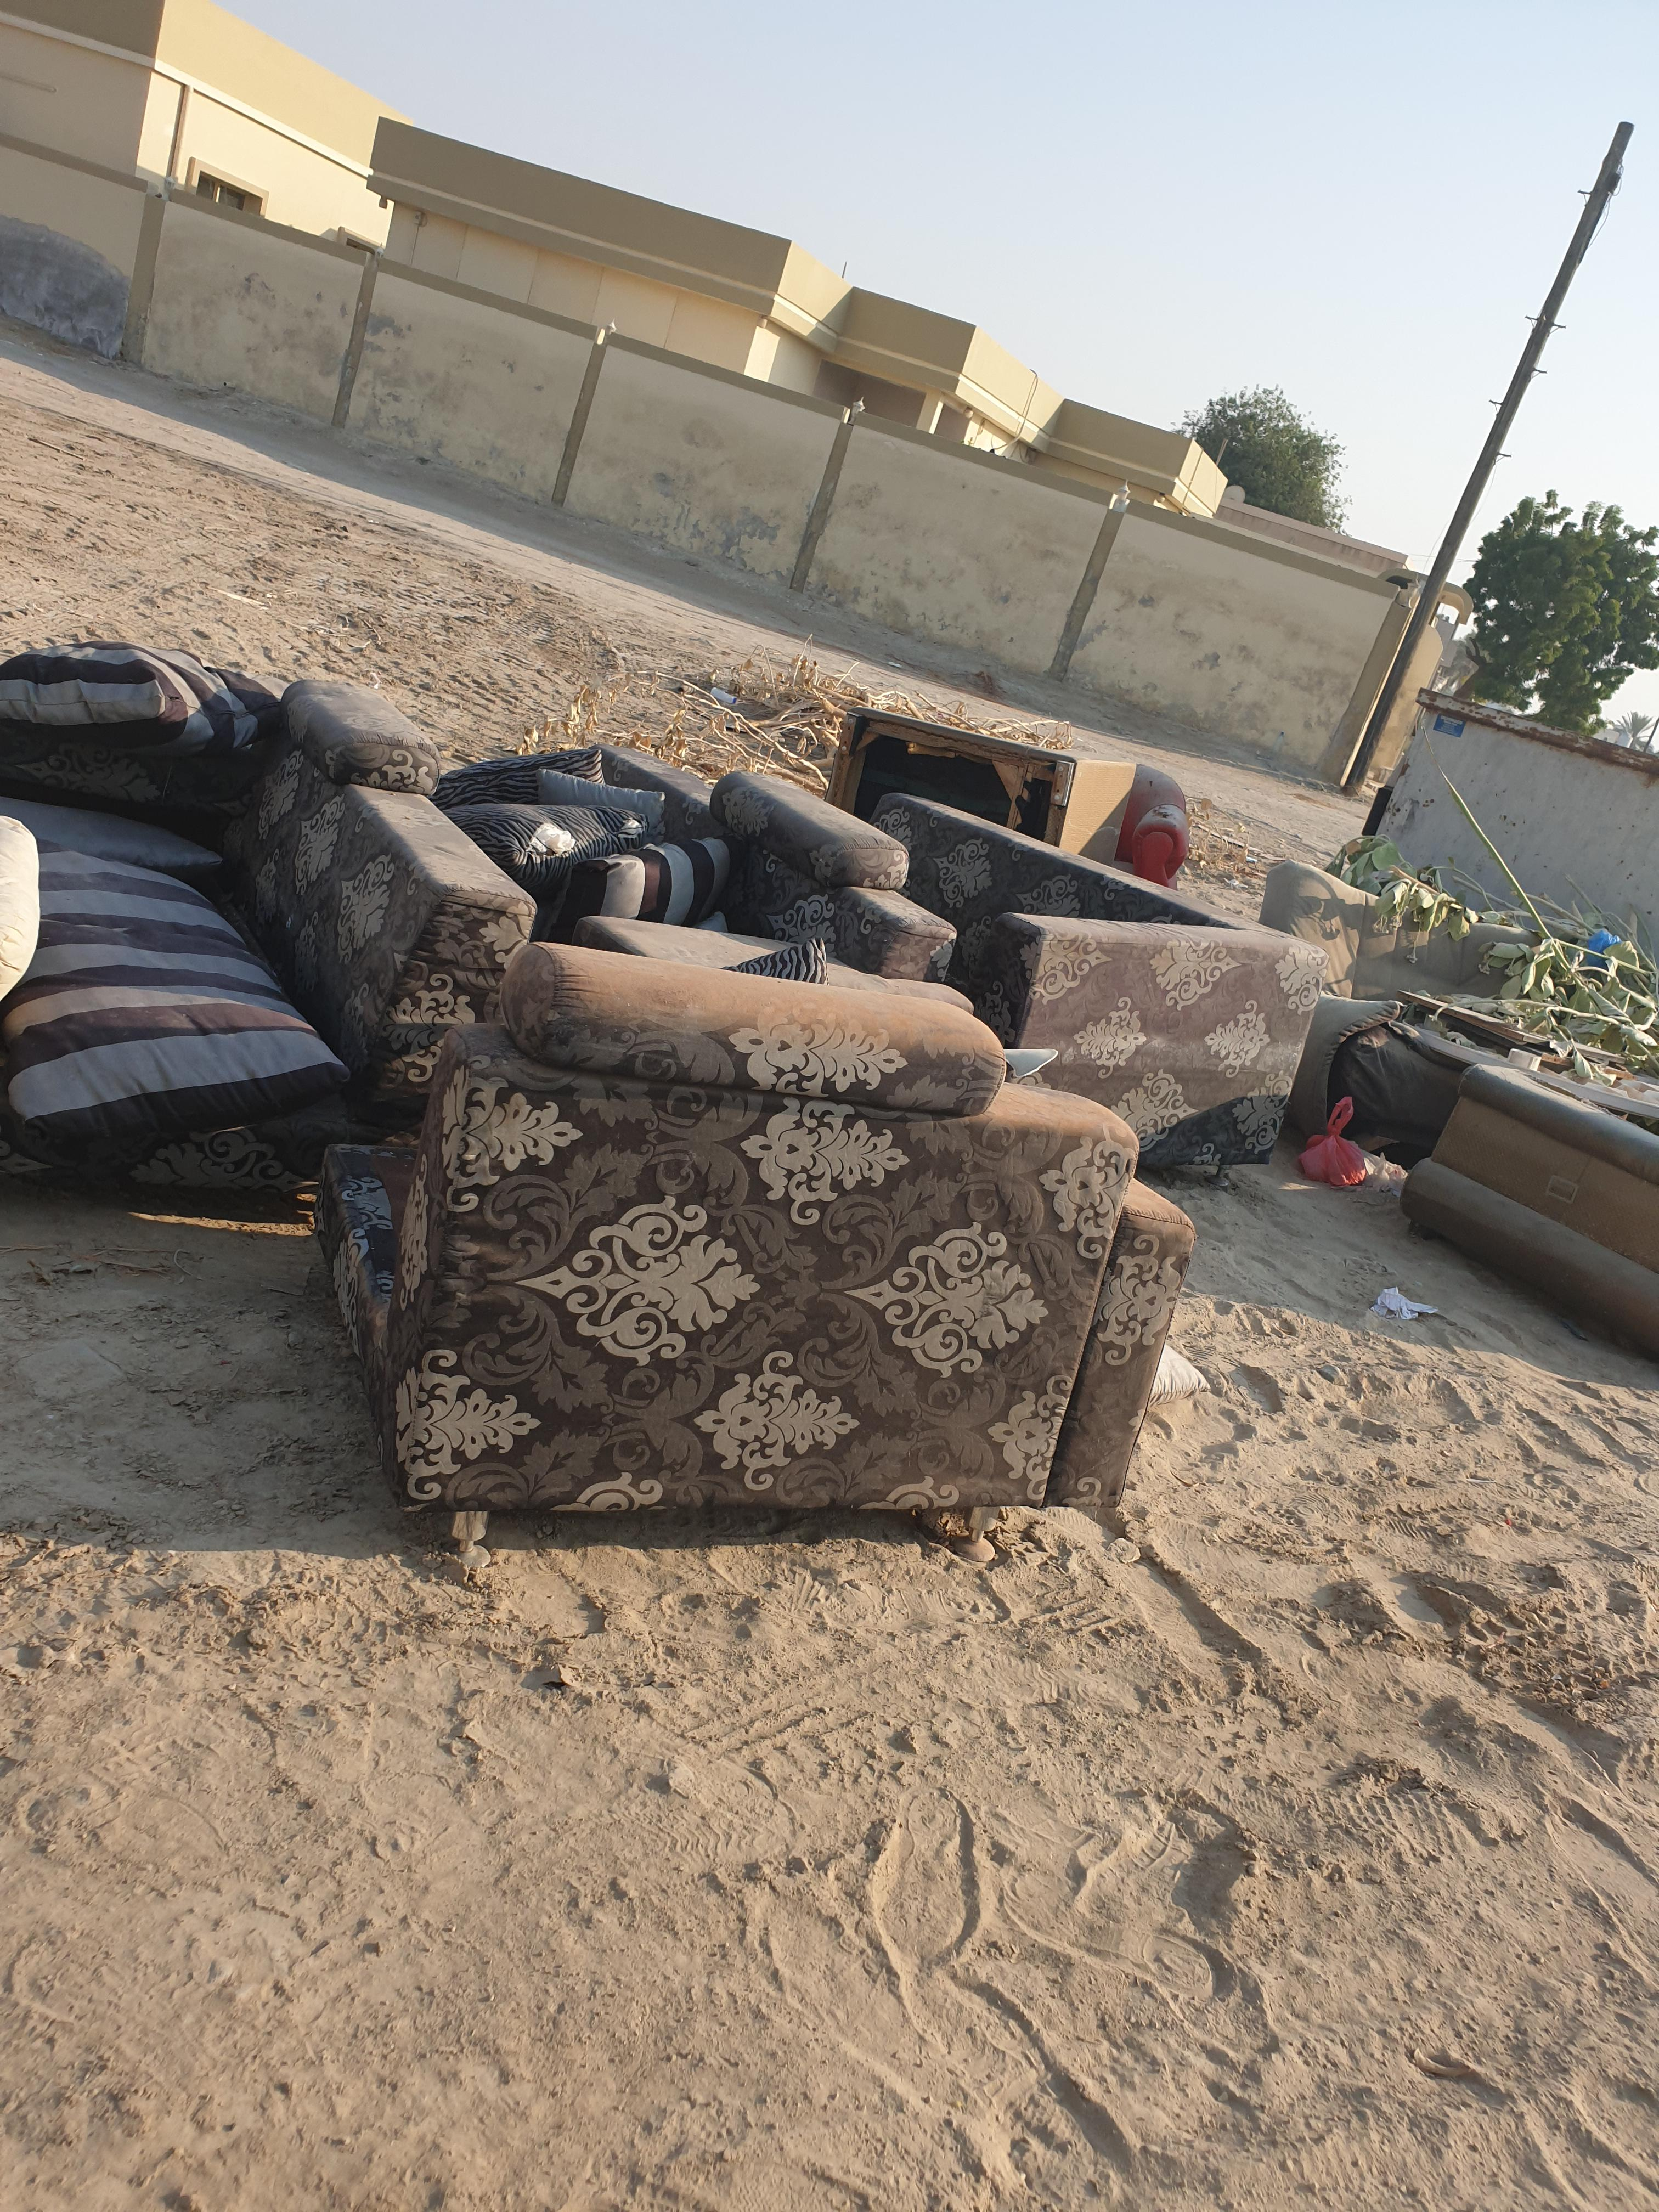uncollected_waste: (54, 538, 1349, 1689), (410, 949, 1218, 1597), (54, 604, 746, 1231), (1051, 921, 1605, 1404), (683, 688, 1248, 1097)
